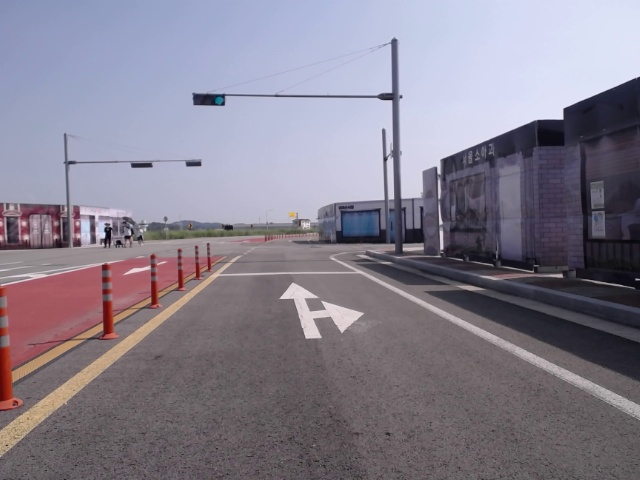green_3: (193, 94, 226, 106)
